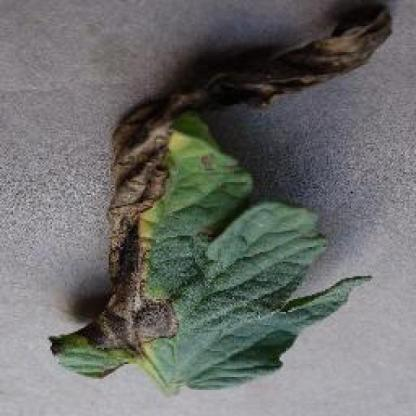Tomato_Blight: (48, 10, 395, 385)
